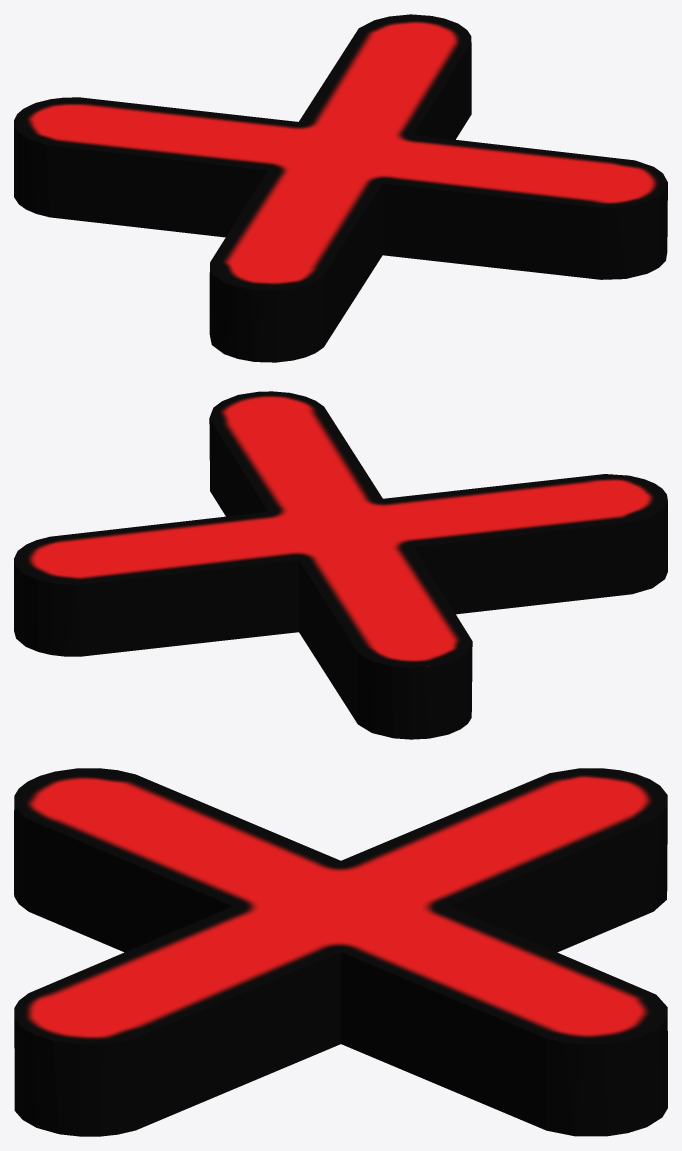
The model's file is piece_x.dae.
3 renders of one model, top to bottom at view 1: azimuth 30°, elevation 25°; view 2: azimuth 150°, elevation 25°; view 3: azimuth 270°, elevation 25°, orthographic. The views are drawn at different scales.
Parts seen in each view (by area): view 1: piece_X; view 2: piece_X; view 3: piece_X.
Boxes of the visible parts, x1,y1,x2,y2 form: piece_X: [14, 14, 667, 362]; piece_X: [14, 391, 667, 739]; piece_X: [14, 768, 667, 1136].
Size of the model in its own units: 64.33 by 64.33 by 10.
Materials: 1 (1 with a texture image).
